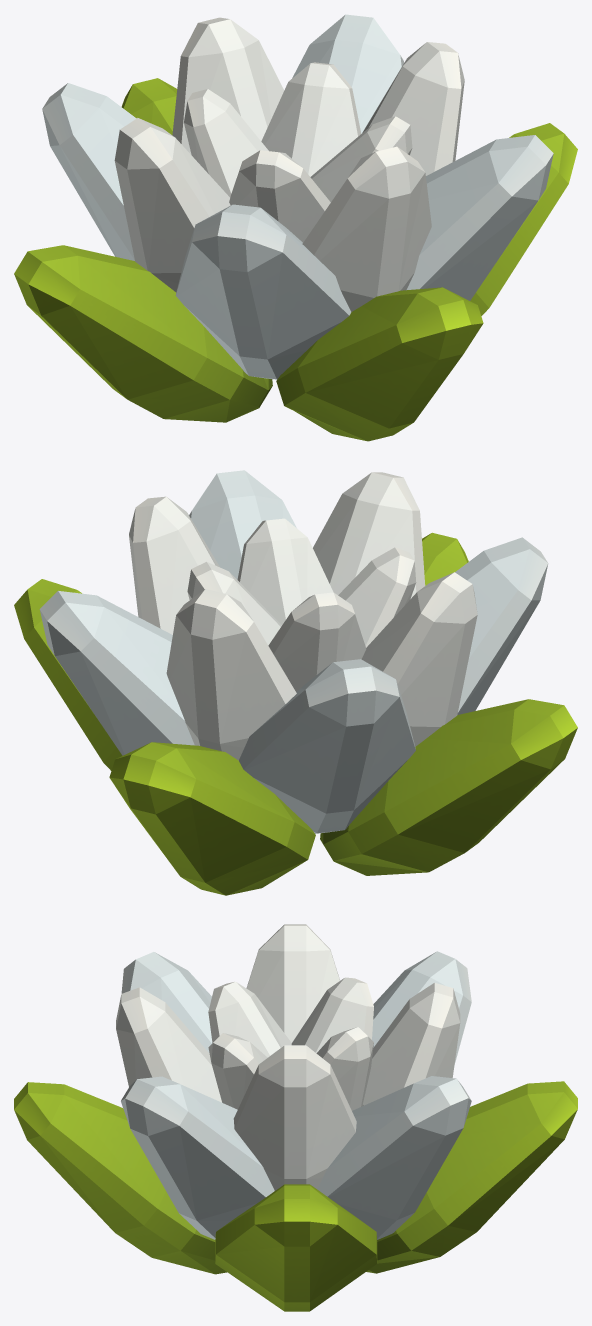
The model's file is lotus_flower_white_LOD_group.fbx.
3 views of the same model, one above another, from view 1: azimuth 30°, elevation 25°; view 2: azimuth 150°, elevation 25°; view 3: azimuth 270°, elevation 25° (orthographic). The views are drawn at different scales.
Visible parts, largest first — view 1: lotus_flower_white_LOD0; view 2: lotus_flower_white_LOD0; view 3: lotus_flower_white_LOD0.
Part boxes in pixels (left/top/right/bottom): lotus_flower_white_LOD0: left=14, top=14, right=577, bottom=441; lotus_flower_white_LOD0: left=14, top=470, right=577, bottom=895; lotus_flower_white_LOD0: left=14, top=924, right=577, bottom=1311.
Size of what is drawn, in the model's own units: 84.57 by 46.76 by 84.99.
1 material, 1 textured.
